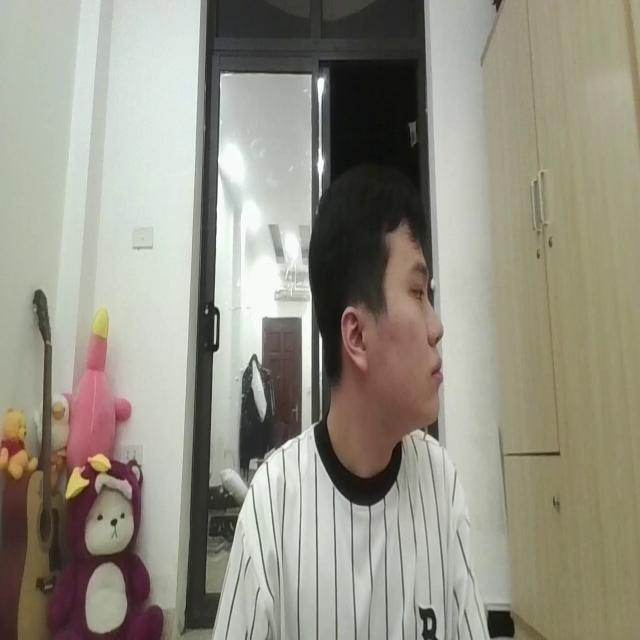student: (205, 174, 488, 640)
